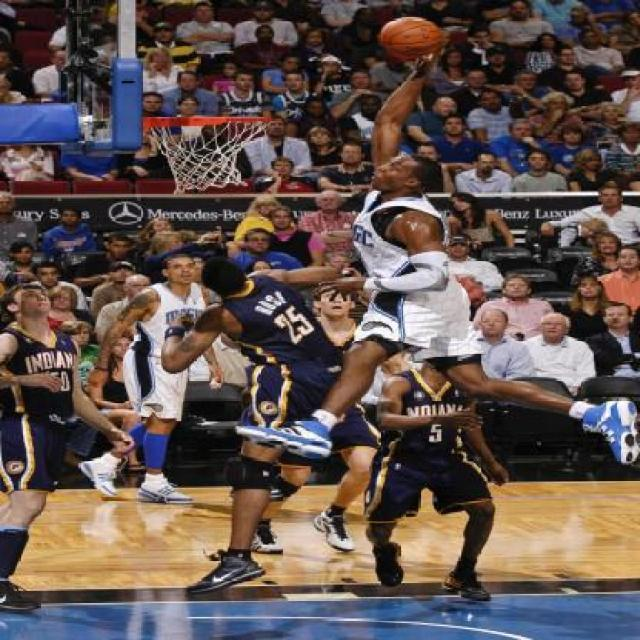basketball: (382, 15, 444, 60)
rim: (151, 115, 277, 193)
